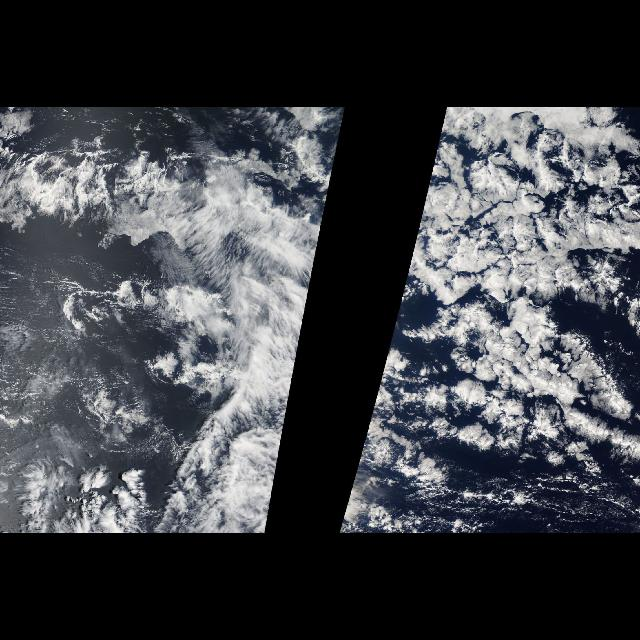Fish: (137, 133, 343, 533), (336, 414, 369, 534)
Flower: (351, 107, 637, 489), (289, 108, 349, 398)
Sugar: (2, 230, 186, 470)
